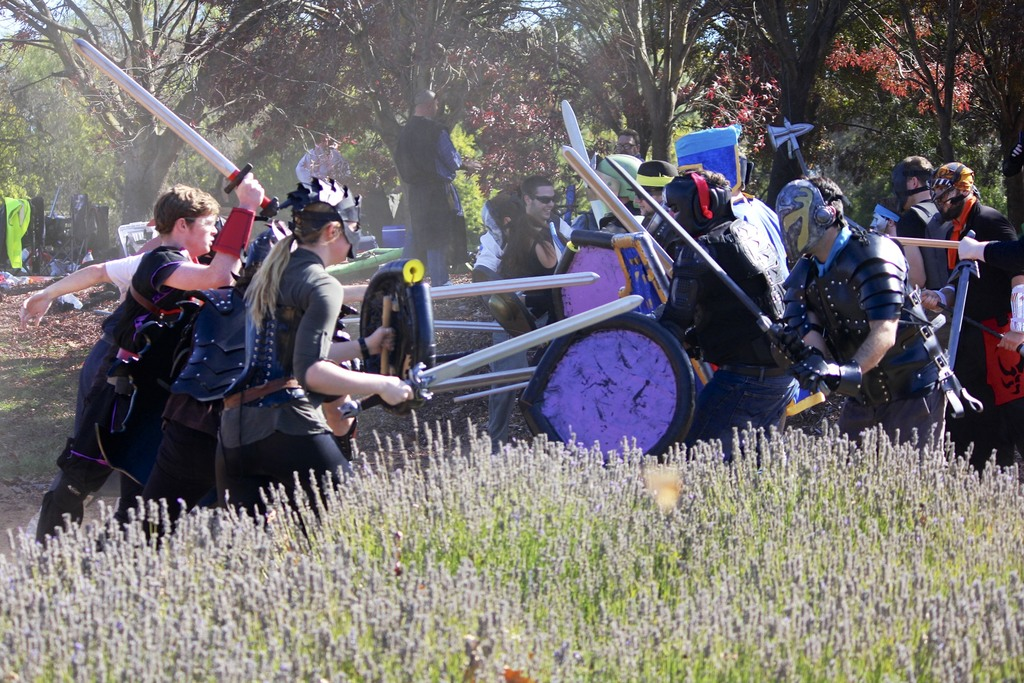Tree: (0, 0, 1023, 236)
